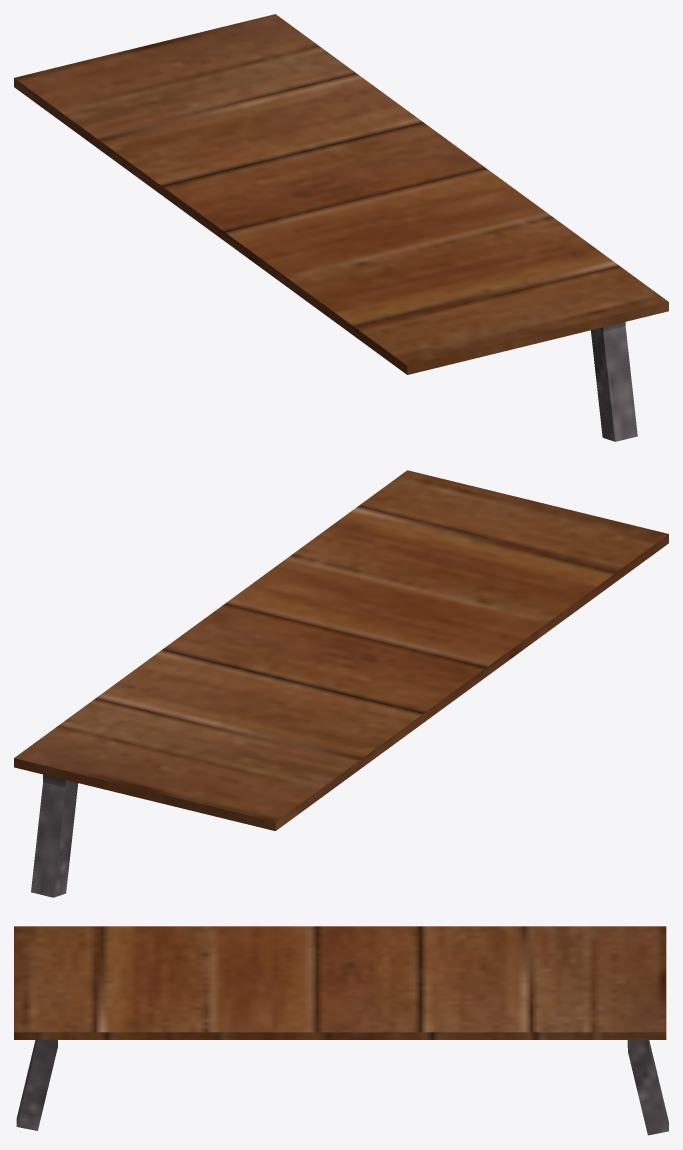
Rendered from wall shelf.fbx.
The picture shows the model from 3 angles, top to bottom: view 1: azimuth 30°, elevation 25°; view 2: azimuth 150°, elevation 25°; view 3: azimuth 270°, elevation 25°; orthographic projection. The views are drawn at different scales.
Parts seen in each view (by area): view 1: wall shelf; view 2: wall shelf; view 3: wall shelf.
Boxes of the visible parts, x1=… form: wall shelf: x1=14, y1=14, x2=668, y2=441; wall shelf: x1=14, y1=470, x2=668, y2=897; wall shelf: x1=14, y1=926, x2=668, y2=1135.
Bounding box in the file's own units: 28.19 × 13.75 × 73.71.
